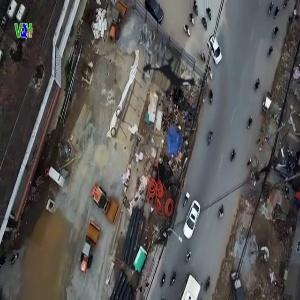drone: (122, 33, 219, 130)
